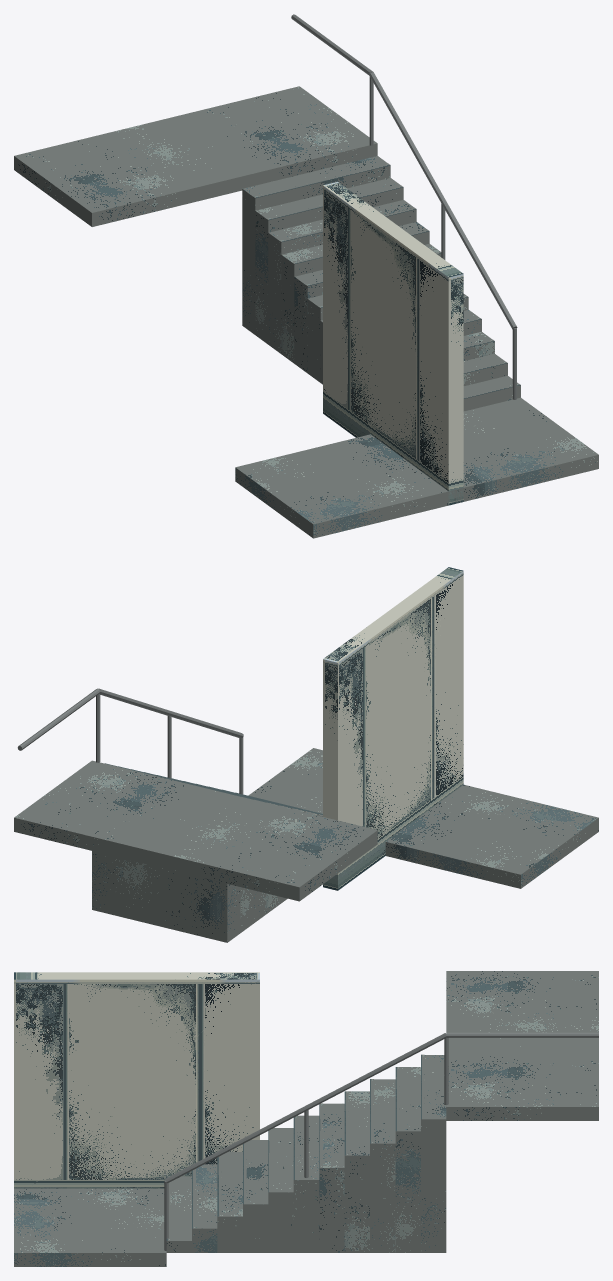
Rendered from stair_material_sample_v1.glb.
3 renders of one model, top to bottom at view 1: azimuth 30°, elevation 25°; view 2: azimuth 150°, elevation 25°; view 3: azimuth 270°, elevation 25°, orthographic. The views are drawn at different scales.
Visible parts, largest first — view 1: RepresentativeLowerLeftWall__R24Reuse, TurnLanding__3p8m_full_width, EntryLanding__3p8m_full_width, ClosedStep_11__TreadAndRiser, ClosedStep_10__TreadAndRiser, ClosedStep_09__TreadAndRiser, ClosedStep_08__TreadAndRiser, ClosedStep_07__TreadAndRiser, InnerRail__Flight, ClosedStep_01__TreadAndRiser, ClosedStep_06__TreadAndRiser, ClosedStep_02__TreadAndRiser (+1 smaller); view 2: RepresentativeLowerLeftWall__R24Reuse, TurnLanding__3p8m_full_width, EntryLanding__3p8m_full_width, ClosedStep_11__TreadAndRiser, InnerRail__Flight, InnerRail__TurnLanding, ClosedStep_10__TreadAndRiser; view 3: RepresentativeLowerLeftWall__R24Reuse, TurnLanding__3p8m_full_width, EntryLanding__3p8m_full_width, ClosedStep_11__TreadAndRiser, ClosedStep_10__TreadAndRiser, ClosedStep_09__TreadAndRiser, ClosedStep_08__TreadAndRiser, ClosedStep_07__TreadAndRiser, ClosedStep_06__TreadAndRiser, ClosedStep_05__TreadAndRiser, ClosedStep_04__TreadAndRiser, ClosedStep_03__TreadAndRiser (+4 smaller).
Part boxes in pixels (box(x1,y1,x2,y2)): RepresentativeLowerLeftWall__R24Reuse: box(323, 182, 463, 505); TurnLanding__3p8m_full_width: box(14, 86, 377, 226); EntryLanding__3p8m_full_width: box(235, 397, 598, 538); ClosedStep_11__TreadAndRiser: box(242, 156, 390, 334); ClosedStep_10__TreadAndRiser: box(255, 178, 403, 344); ClosedStep_09__TreadAndRiser: box(268, 200, 416, 353); ClosedStep_08__TreadAndRiser: box(281, 221, 429, 363); ClosedStep_07__TreadAndRiser: box(294, 243, 441, 373); InnerRail__Flight: box(369, 72, 517, 329); ClosedStep_01__TreadAndRiser: box(463, 375, 520, 411); ClosedStep_06__TreadAndRiser: box(307, 295, 322, 382); ClosedStep_02__TreadAndRiser: box(463, 353, 507, 386); RepresentativeLowerLeftWall__R24Reuse: box(323, 567, 463, 890); TurnLanding__3p8m_full_width: box(14, 760, 377, 901); EntryLanding__3p8m_full_width: box(248, 748, 598, 888); ClosedStep_11__TreadAndRiser: box(92, 851, 240, 942); InnerRail__Flight: box(98, 688, 243, 738); InnerRail__TurnLanding: box(17, 688, 100, 750); ClosedStep_10__TreadAndRiser: box(240, 887, 253, 932); RepresentativeLowerLeftWall__R24Reuse: box(14, 972, 259, 1188); TurnLanding__3p8m_full_width: box(446, 971, 598, 1120); EntryLanding__3p8m_full_width: box(14, 1188, 166, 1266); ClosedStep_11__TreadAndRiser: box(421, 1055, 446, 1252); ClosedStep_10__TreadAndRiser: box(395, 1067, 420, 1252); ClosedStep_09__TreadAndRiser: box(370, 1079, 395, 1252); ClosedStep_08__TreadAndRiser: box(344, 1091, 369, 1252); ClosedStep_07__TreadAndRiser: box(319, 1103, 344, 1252); ClosedStep_06__TreadAndRiser: box(293, 1115, 319, 1252); ClosedStep_05__TreadAndRiser: box(268, 1128, 293, 1252); ClosedStep_04__TreadAndRiser: box(243, 1140, 268, 1252); ClosedStep_03__TreadAndRiser: box(217, 1152, 242, 1252).
Size of the model in its own units: 3.8 by 3.01 by 6.9.
4 materials, 3 textured.
